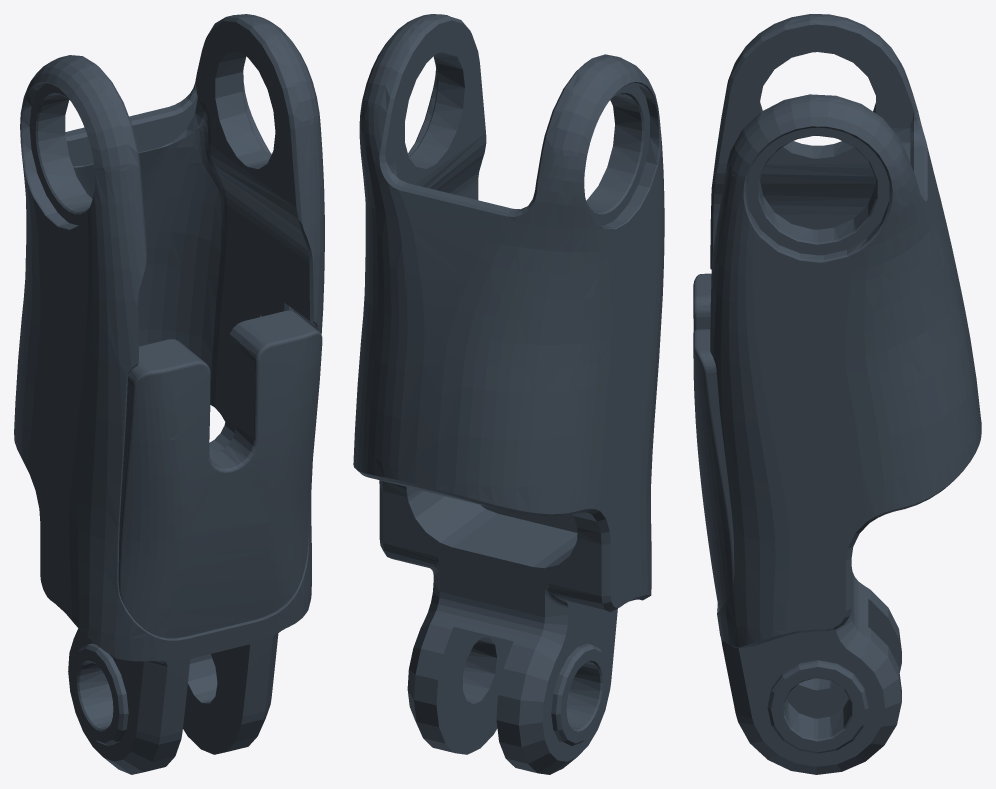
The model's file is if_mcp_pitch_link.glb.
The picture shows the model from 3 angles, left to right: view 1: azimuth 30°, elevation 25°; view 2: azimuth 150°, elevation 25°; view 3: azimuth 270°, elevation 25°; orthographic projection. The views are drawn at different scales.
Visible parts, largest first — view 1: if_mcp_pitch; view 2: if_mcp_pitch; view 3: if_mcp_pitch.
Part boxes in pixels (x1,y1,x2,y2): if_mcp_pitch: (14, 14, 324, 774); if_mcp_pitch: (353, 14, 664, 774); if_mcp_pitch: (693, 14, 981, 774).
Size of the model in its own units: 0.0154 by 0.0455 by 0.0171.
